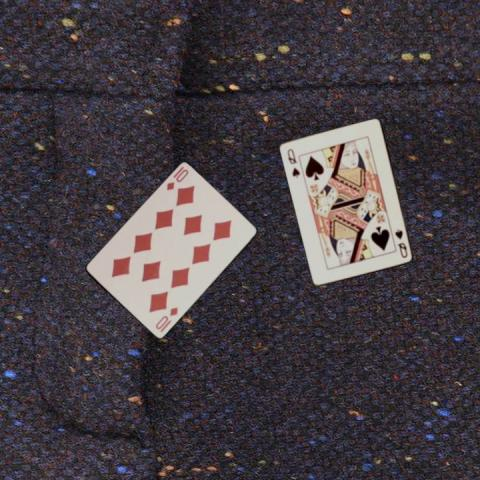10d: (163, 163, 190, 192), (153, 304, 179, 331)
Qs: (393, 226, 409, 259), (285, 146, 301, 179)
